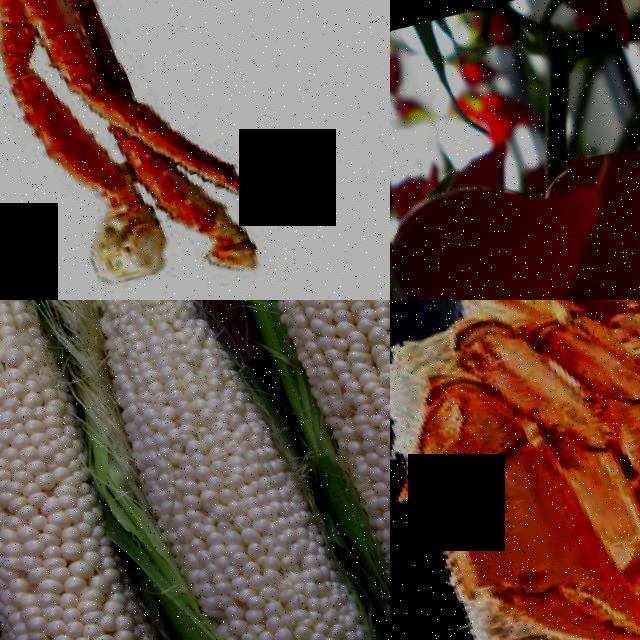chilli: (390, 128, 640, 300)
corn: (47, 300, 380, 640), (0, 300, 220, 640), (245, 300, 390, 640)
crab: (390, 300, 640, 640), (0, 0, 257, 300)
